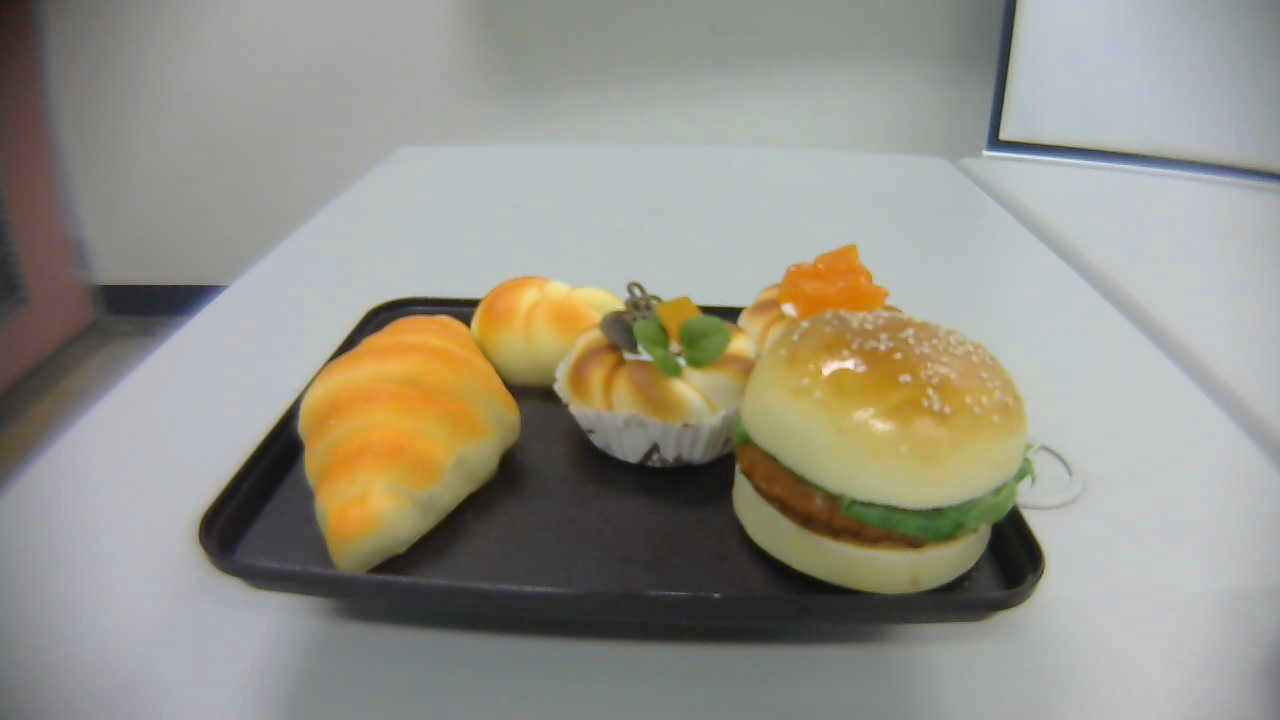croissant: (296, 312, 521, 576)
fruit tart: (554, 281, 759, 466)
hamburger: (735, 307, 1033, 594)
mango tart: (736, 242, 935, 403)
twist bread: (470, 276, 631, 387)
